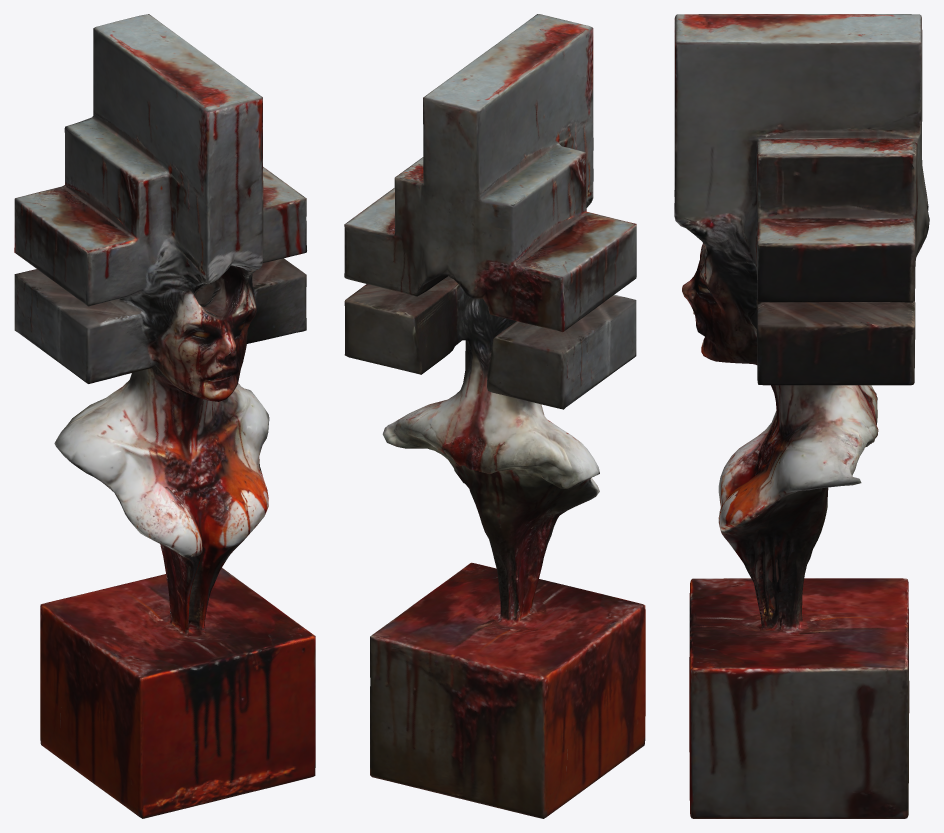
Rendered from statue_silence.glb.
3 views of the same model, side by side, from view 1: azimuth 30°, elevation 25°; view 2: azimuth 150°, elevation 25°; view 3: azimuth 270°, elevation 25° (orthographic). The views are drawn at different scales.
Visible parts, largest first — view 1: Mesh_0_Material.001_0; view 2: Mesh_0_Material.001_0; view 3: Mesh_0_Material.001_0.
Boxes of the visible parts, x1,y1,x2,y2 form: Mesh_0_Material.001_0: (14, 14, 315, 818); Mesh_0_Material.001_0: (344, 14, 645, 818); Mesh_0_Material.001_0: (674, 14, 929, 818).
Size of the model in its own units: 0.6591 by 2 by 0.6201.
1 material, 1 textured.
